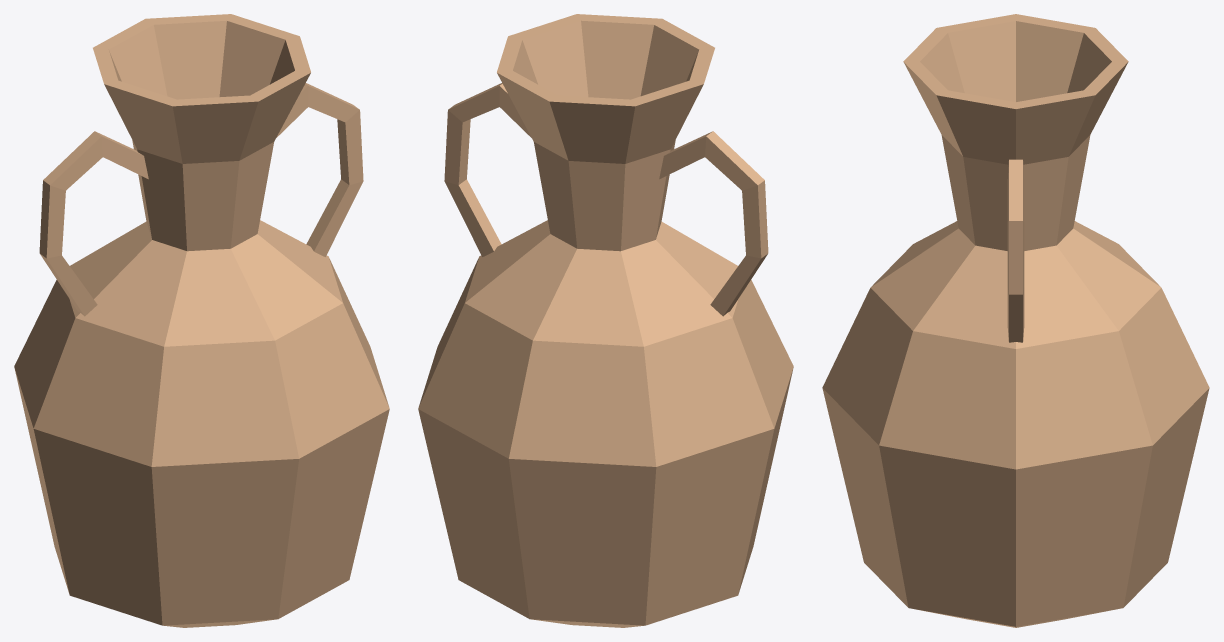
Rendered from roman_pot_3.fbx.
The picture shows the model from 3 angles, left to right: view 1: azimuth 30°, elevation 25°; view 2: azimuth 150°, elevation 25°; view 3: azimuth 270°, elevation 25°; orthographic projection.
Visible parts, largest first — view 1: Cylinder.000; view 2: Cylinder.000; view 3: Cylinder.000.
Boxes of the visible parts, x1,y1,x2,y2 form: Cylinder.000: (14,14,389,627); Cylinder.000: (418,14,793,627); Cylinder.000: (822,14,1209,627).
Size of the model in its own units: 0.5407 by 0.8282 by 0.5407.
